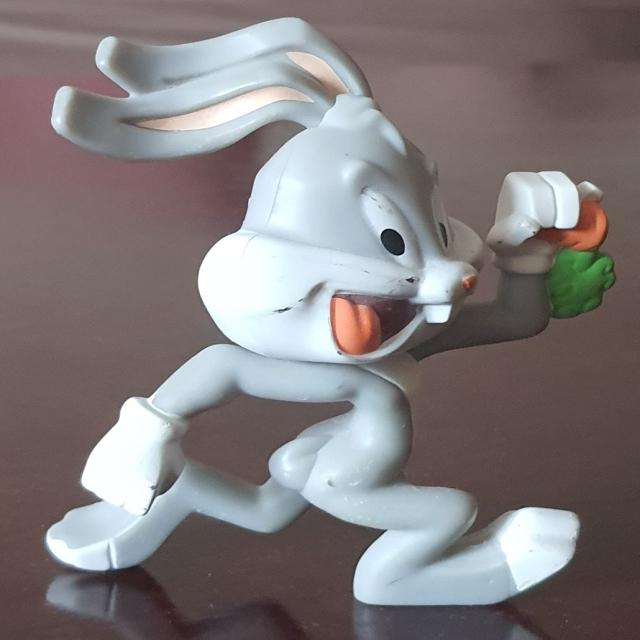Rabbit: (43, 16, 616, 607)
